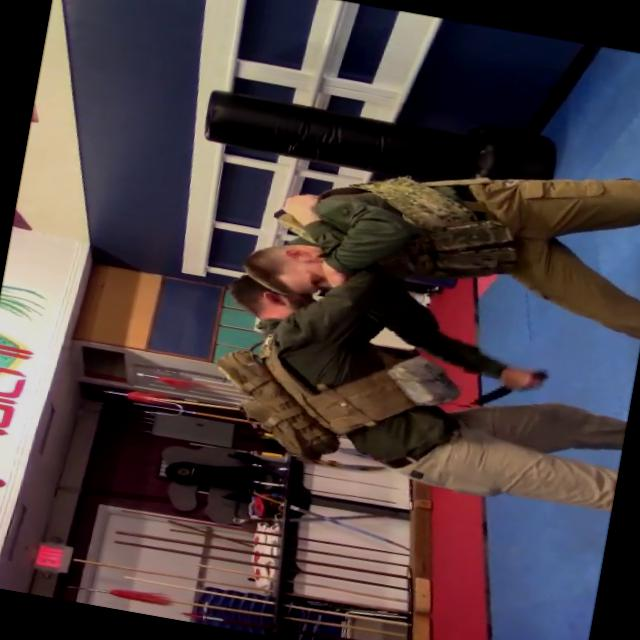knife: (463, 354, 550, 422)
